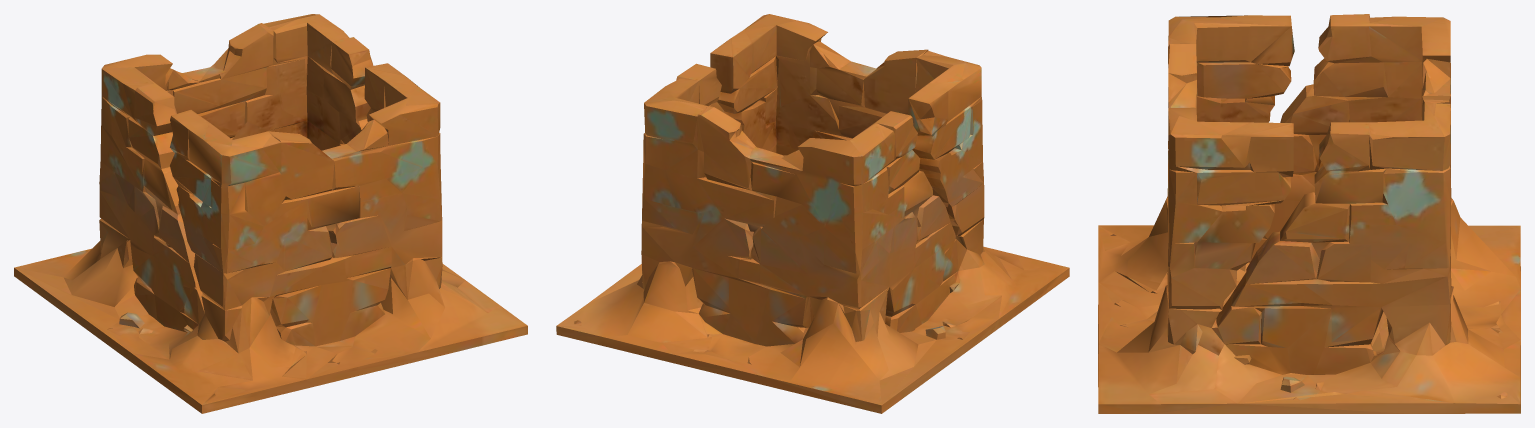
Rendered from wall_ruins.glb.
3 views of the same model, side by side, from view 1: azimuth 30°, elevation 25°; view 2: azimuth 150°, elevation 25°; view 3: azimuth 270°, elevation 25° (orthographic). The views are drawn at different scales.
Size of the model in its own units: 1.9 by 1.26 by 1.9.
Materials: 1 (1 with a texture image).
